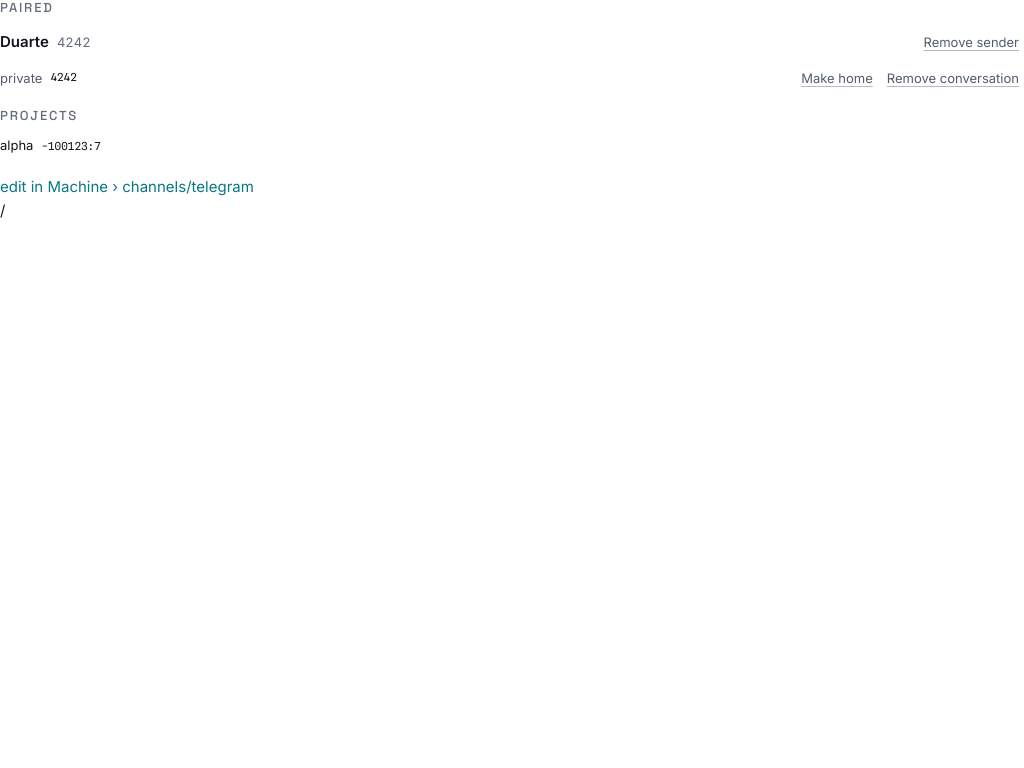
Test: IdentitiesPanel › actions › warns of no owner when the last conversation of the last sender is removed
Expected: the text "Duarte" is shown, [0,30,49,53]
Click the button "Remove conversation": (953, 78) [882,64,1023,92]
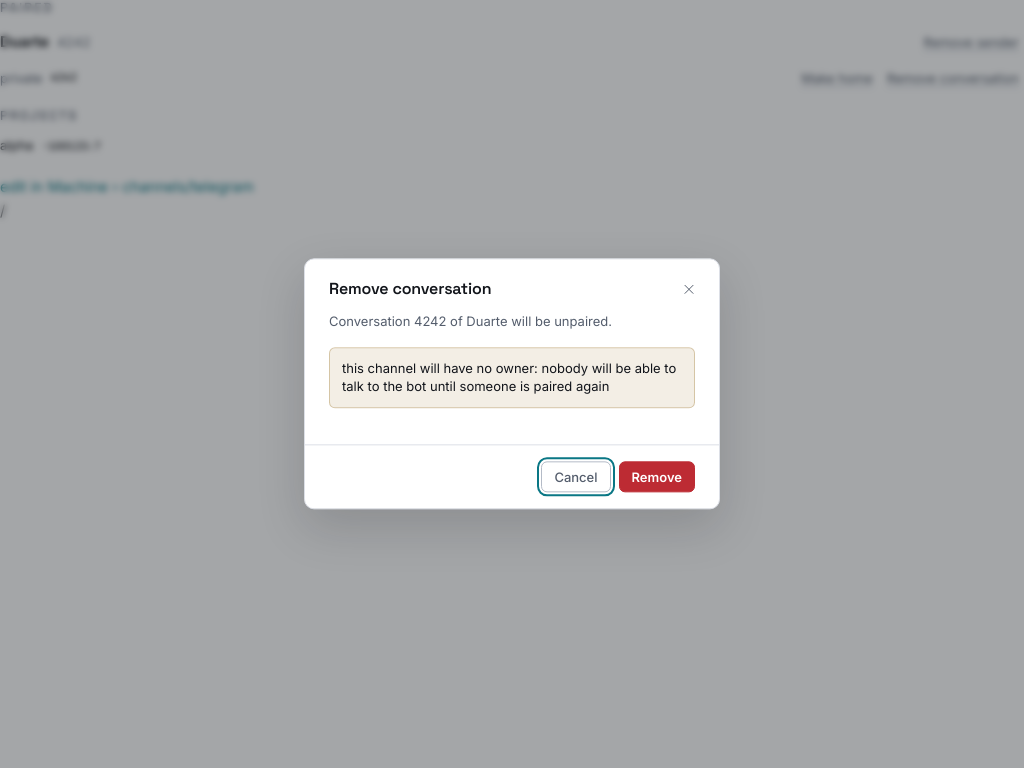
Now the text "this channel will have no owner: nobody will be able to talk to the bot until someone is paired again" is shown, box [342,360,676,394]
